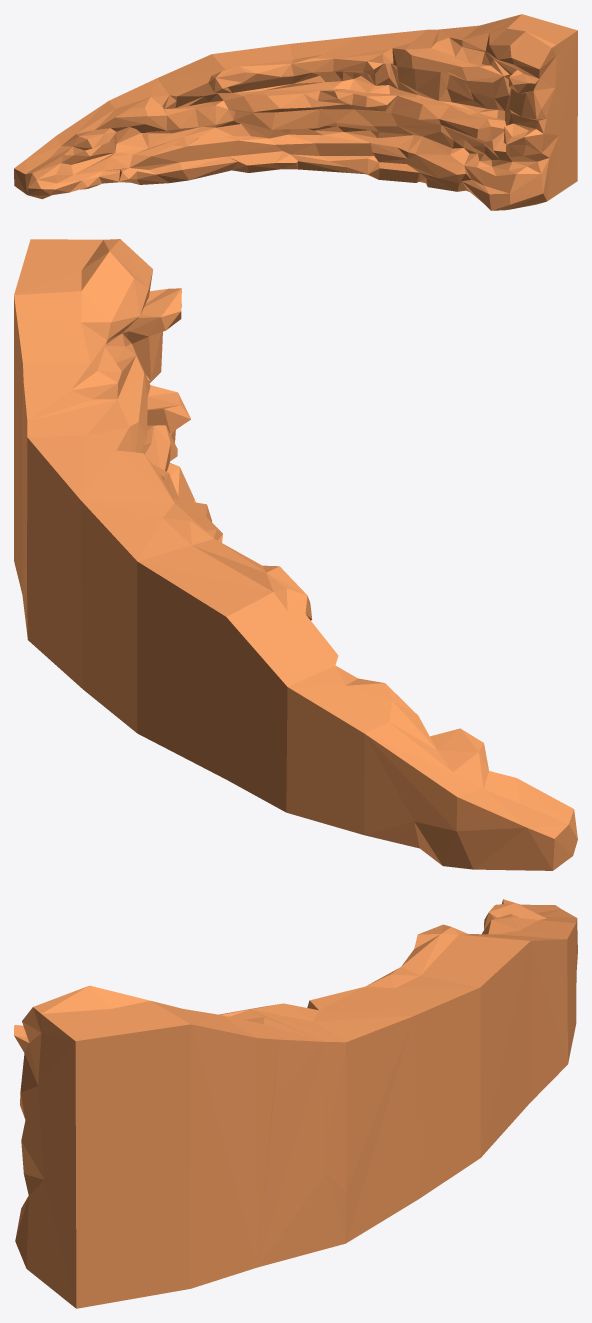
Rendered from testcliff 1.fbx.
3 renders of one model, top to bottom at view 1: azimuth 30°, elevation 25°; view 2: azimuth 150°, elevation 25°; view 3: azimuth 270°, elevation 25°, orthographic. The views are drawn at different scales.
Visible parts, largest first — view 1: cliff06:Group10995; view 2: cliff06:Group10995; view 3: cliff06:Group10995.
Boxes of the visible parts, x1,y1,x2,y2 form: cliff06:Group10995: (14,14,577,210); cliff06:Group10995: (14,239,577,870); cliff06:Group10995: (14,899,577,1308).
Bounding box in the file's own units: 106 × 40.22 × 68.13.
